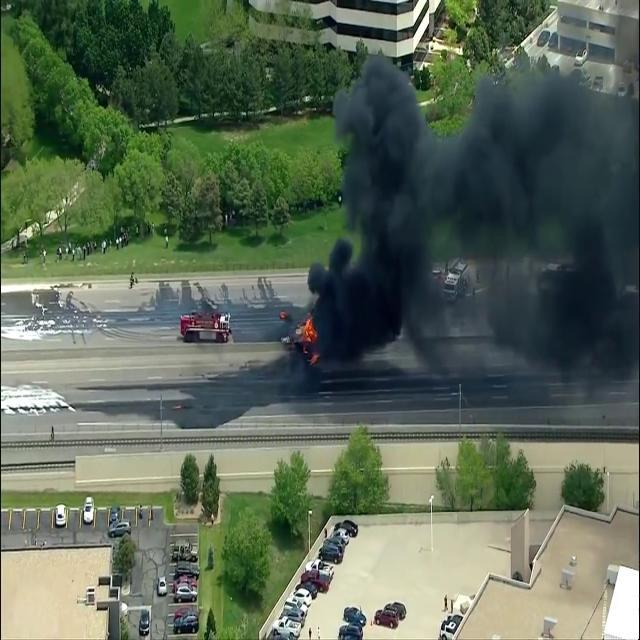Fire: (298, 312, 322, 355)
Smoke: (319, 1, 639, 373)
